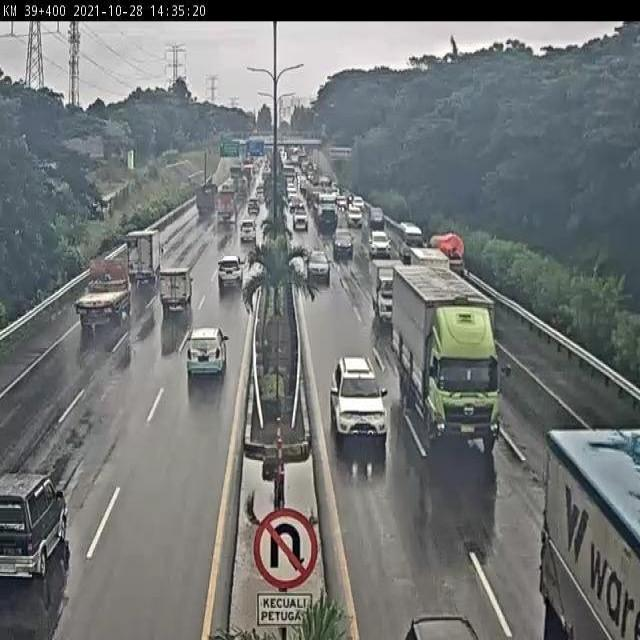big truck: (539, 421, 640, 640), (391, 266, 501, 458), (314, 192, 340, 235), (195, 179, 221, 220)
car: (0, 471, 72, 585), (324, 352, 395, 448), (188, 321, 228, 383), (405, 614, 488, 640), (159, 265, 192, 308), (302, 248, 333, 287), (218, 255, 246, 289), (368, 232, 395, 260), (333, 230, 357, 258), (290, 209, 313, 235), (346, 205, 367, 232), (368, 205, 388, 232), (235, 223, 257, 245), (246, 196, 261, 216)
small bus: (398, 222, 424, 262)
small truck: (78, 257, 134, 332), (371, 256, 405, 332), (128, 228, 162, 287), (433, 231, 468, 284), (410, 247, 451, 281), (215, 185, 240, 223)
